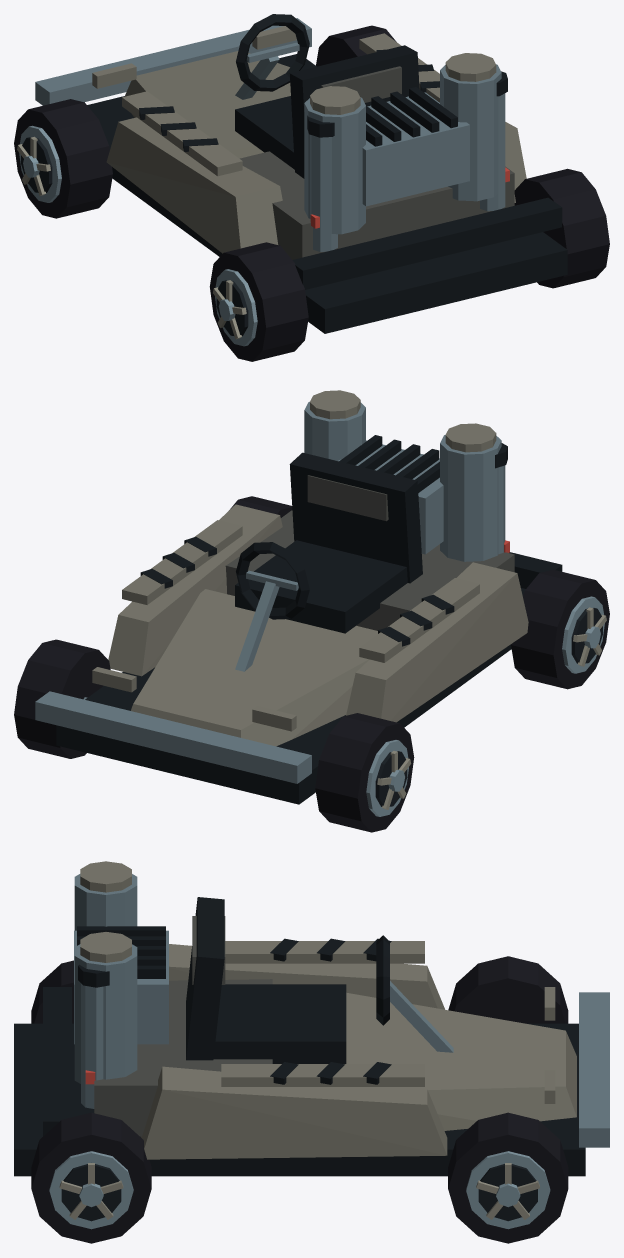
The model's file is kart.glb.
3 renders of one model, top to bottom at view 1: azimuth 30°, elevation 25°; view 2: azimuth 150°, elevation 25°; view 3: azimuth 270°, elevation 25°, orthographic. The views are drawn at different scales.
Visible parts, largest first — view 1: chassis, wheel-rear-left, wheel-front-left, wheel-rear-right, wheel-front-right; view 2: chassis, wheel-front-left, wheel-rear-left, wheel-front-right, wheel-rear-right; view 3: chassis, wheel-front-right, wheel-rear-right, wheel-front-left, wheel-rear-left.
Part boxes in pixels (x1,y1,x2,y2): chassis: [35, 14, 567, 333]; wheel-rear-left: [209, 242, 308, 361]; wheel-front-left: [14, 99, 112, 218]; wheel-rear-right: [514, 168, 609, 288]; wheel-front-right: [316, 25, 396, 66]; chassis: [35, 390, 562, 804]; wheel-front-left: [315, 713, 414, 832]; wheel-rear-left: [511, 569, 609, 689]; wheel-front-right: [14, 639, 110, 758]; wheel-rear-right: [229, 496, 292, 517]; chassis: [14, 861, 609, 1176]; wheel-front-right: [448, 1112, 568, 1243]; wheel-rear-right: [31, 1112, 151, 1243]; wheel-front-left: [448, 956, 568, 1023]; wheel-rear-left: [31, 960, 73, 1023].
Size of the model in its own units: 2.35 by 1.4 by 3.08.
